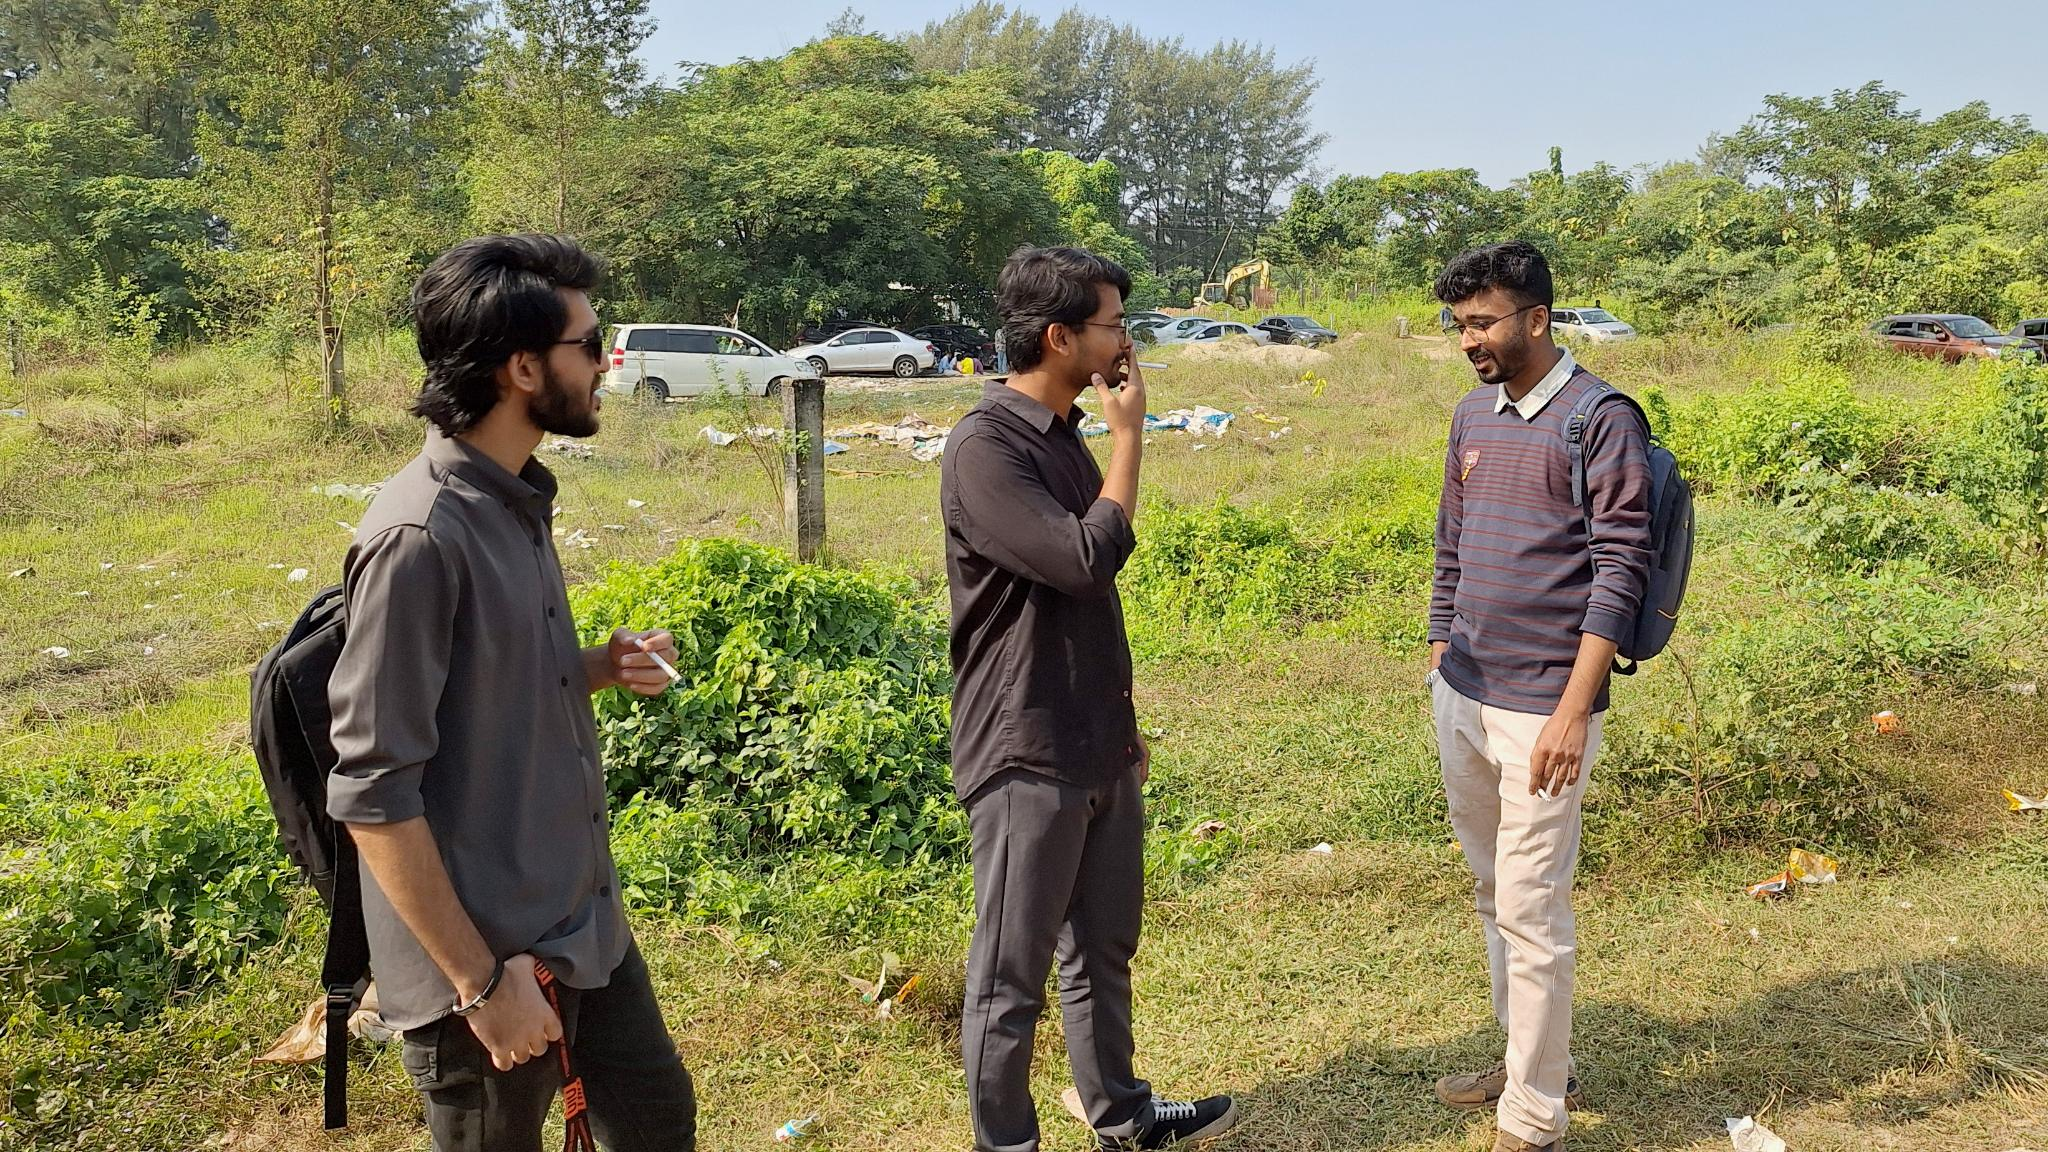cigarette: (633, 637, 684, 684), (1120, 359, 1170, 371), (1535, 785, 1553, 806)
smoker: (250, 233, 698, 1152), (941, 246, 1236, 1152), (1425, 241, 1695, 1152)
